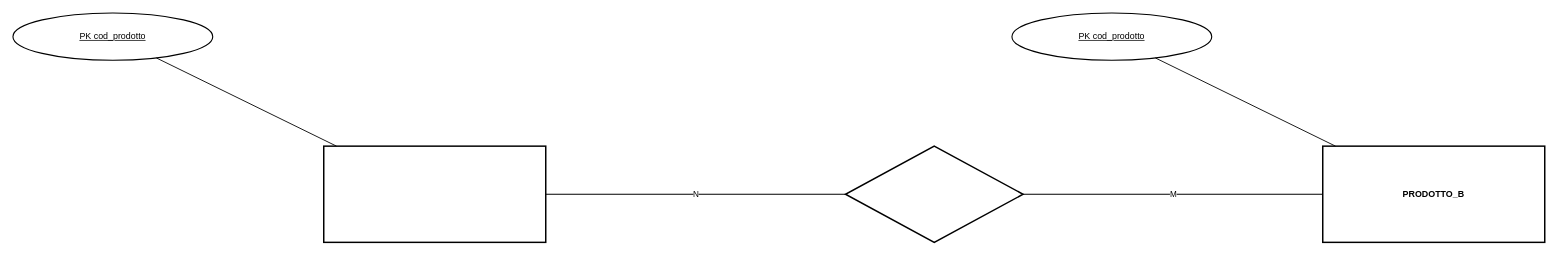
This 1558x256 diagram has some shape labels left out. The shapes that lost their labels are listed below. From the top down, each one's centre as x and y in pixels, then its label:
pixel 434 194: PRODOTTO_A
pixel 933 194: COMPOSIZIONE
